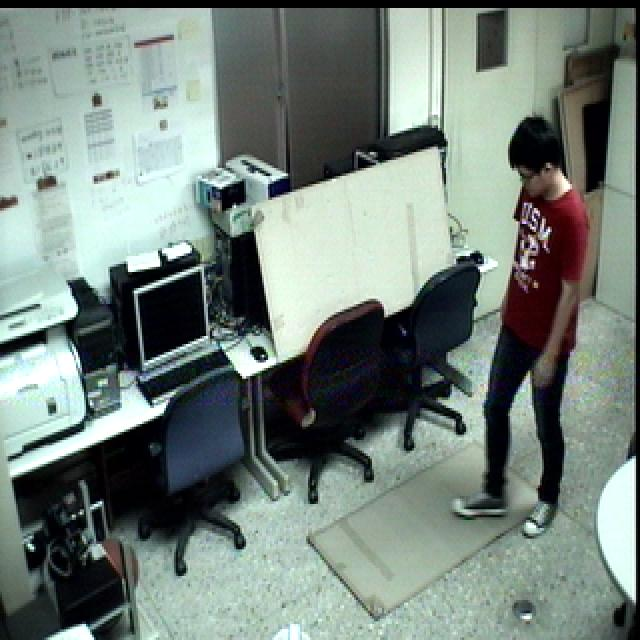stand: (444, 108, 592, 541)
